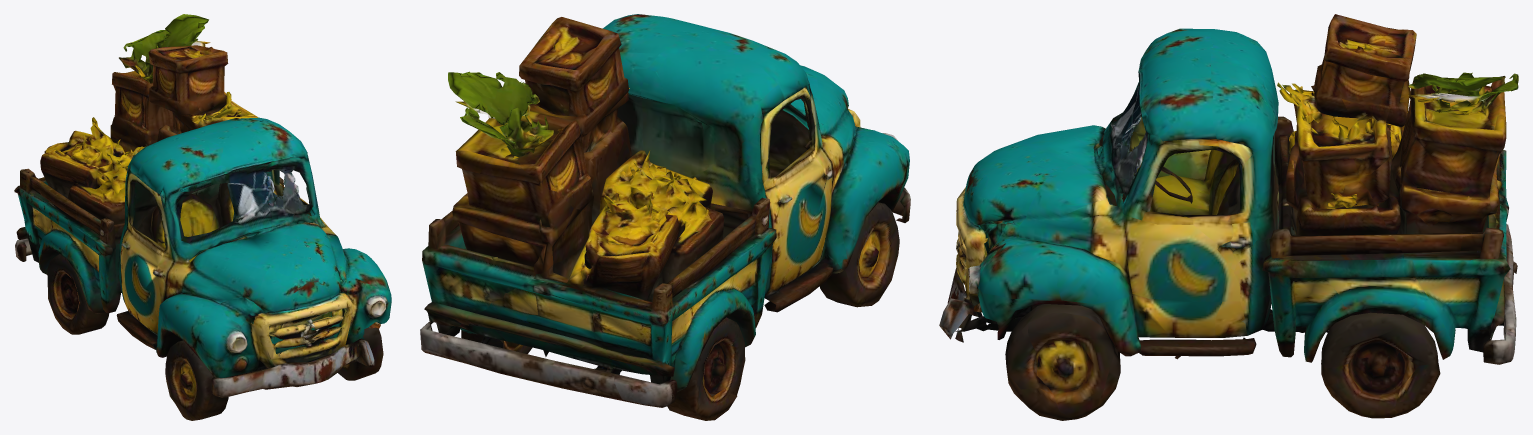
The model's file is pickup.glb.
The picture shows the model from 3 angles, left to right: view 1: azimuth 30°, elevation 25°; view 2: azimuth 150°, elevation 25°; view 3: azimuth 270°, elevation 25°; orthographic projection. The views are drawn at different scales.
Parts seen in each view (by area): view 1: tripo_node_ea118c77-95d2-4013-a777-2e55901998f1; view 2: tripo_node_ea118c77-95d2-4013-a777-2e55901998f1; view 3: tripo_node_ea118c77-95d2-4013-a777-2e55901998f1.
Boxes of the visible parts, x1,y1,x2,y2 form: tripo_node_ea118c77-95d2-4013-a777-2e55901998f1: (14, 14, 391, 420); tripo_node_ea118c77-95d2-4013-a777-2e55901998f1: (420, 14, 910, 420); tripo_node_ea118c77-95d2-4013-a777-2e55901998f1: (939, 14, 1518, 420).
Size of the model in its own units: 0.5393 by 0.6652 by 0.9965.
Materials: 1 (1 with a texture image).
